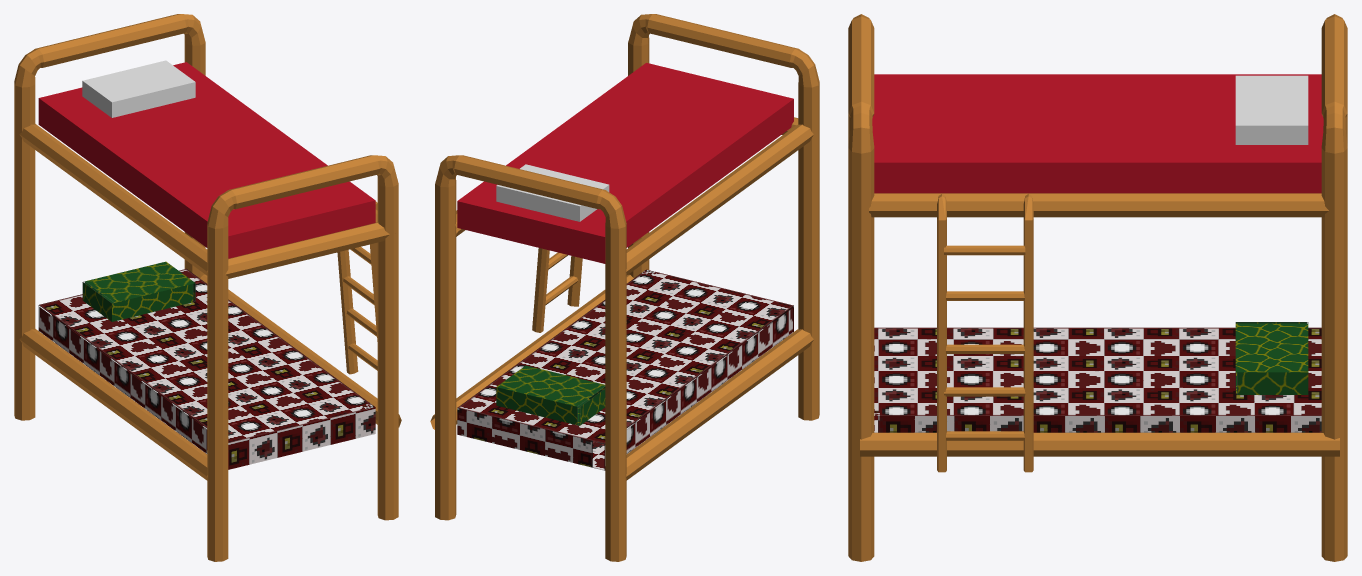
Rendered from kasur.fbx.
The picture shows the model from 3 angles, left to right: view 1: azimuth 30°, elevation 25°; view 2: azimuth 150°, elevation 25°; view 3: azimuth 270°, elevation 25°; orthographic projection. The views are drawn at different scales.
Visible parts, largest first — view 1: Cube.048, Cube.058, Cube.045, Cube.059, Cube.047; view 2: Cube.048, Cube.045, Cube.058, Cube.059, Cube.047; view 3: Cube.048, Cube.045, Cube.058, Cube.059, Cube.047.
Part boxes in pixels (<box>): Cube.048: <box>14,14,401,561</box>; Cube.058: <box>38,269,375,469</box>; Cube.045: <box>38,62,375,258</box>; Cube.059: <box>82,261,195,321</box>; Cube.047: <box>82,60,195,117</box>; Cube.048: <box>430,14,819,561</box>; Cube.045: <box>457,63,793,263</box>; Cube.058: <box>457,269,793,470</box>; Cube.059: <box>496,365,605,425</box>; Cube.047: <box>496,164,609,221</box>; Cube.048: <box>848,14,1347,561</box>; Cube.045: <box>872,74,1323,193</box>; Cube.058: <box>874,327,1321,432</box>; Cube.059: <box>1235,322,1308,394</box>; Cube.047: <box>1235,75,1308,144</box>.
Size of the model in its own units: 117 by 188 by 191.
4 materials, 2 textured.
